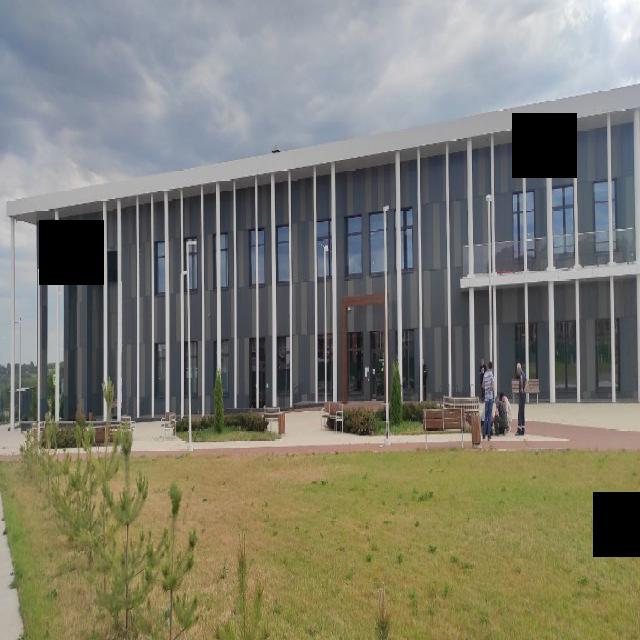Building: (63, 83, 640, 422)
